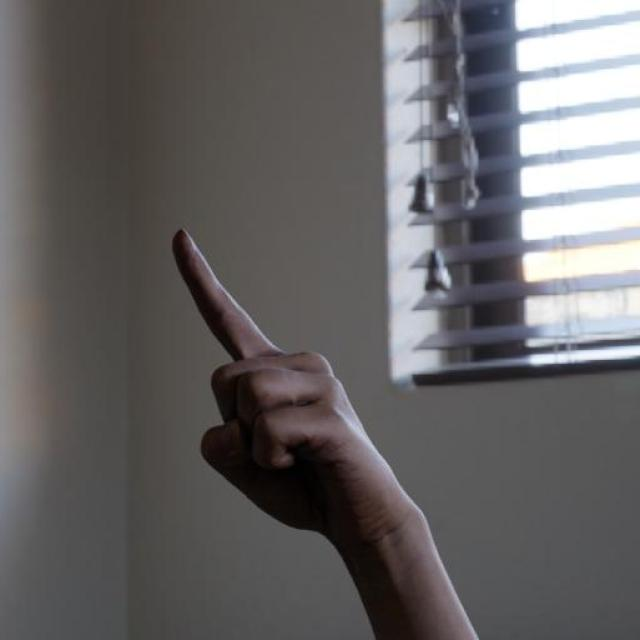Z: (170, 222, 425, 554)
